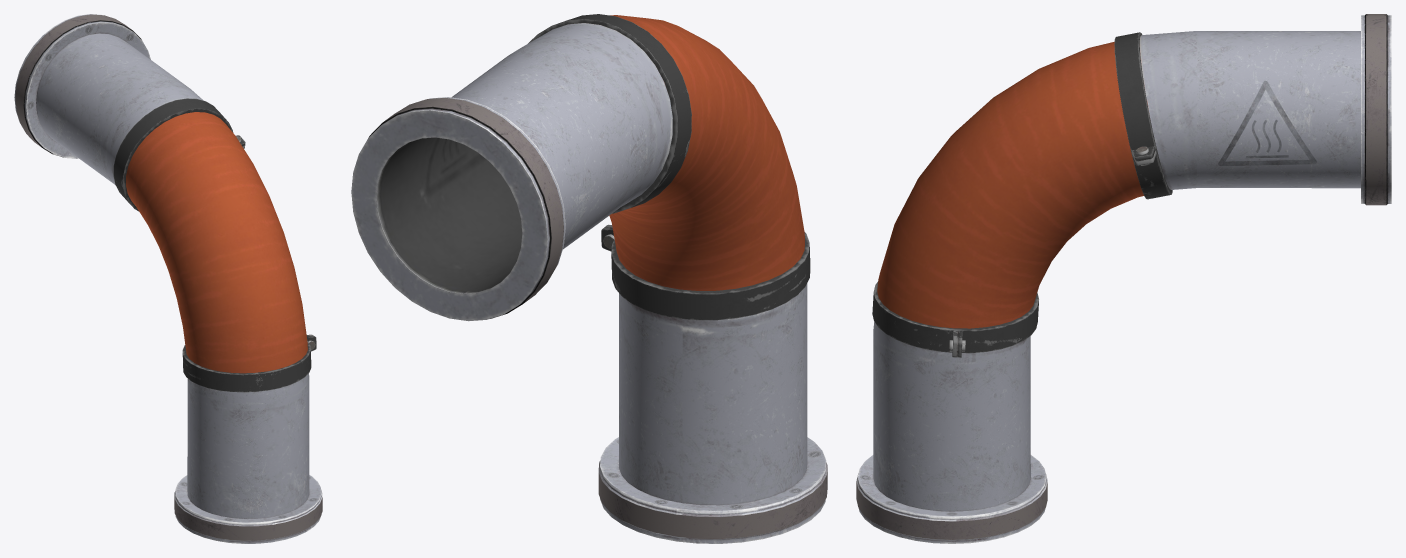
File: industrial_pipe.glb
The picture shows the model from 3 angles, left to right: view 1: azimuth 30°, elevation 25°; view 2: azimuth 150°, elevation 25°; view 3: azimuth 270°, elevation 25°; orthographic projection. The views are drawn at different scales.
Visible parts, largest first — view 1: Cylinder.002; view 2: Cylinder.002; view 3: Cylinder.002.
Part boxes in pixels (box(x1,y1,x2,y2)): Cylinder.002: box(14, 14, 322, 543); Cylinder.002: box(351, 14, 827, 543); Cylinder.002: box(856, 14, 1391, 543).
Bounding box in the file's own units: 0.3573 × 0.9606 × 0.968.
1 material, 1 textured.
